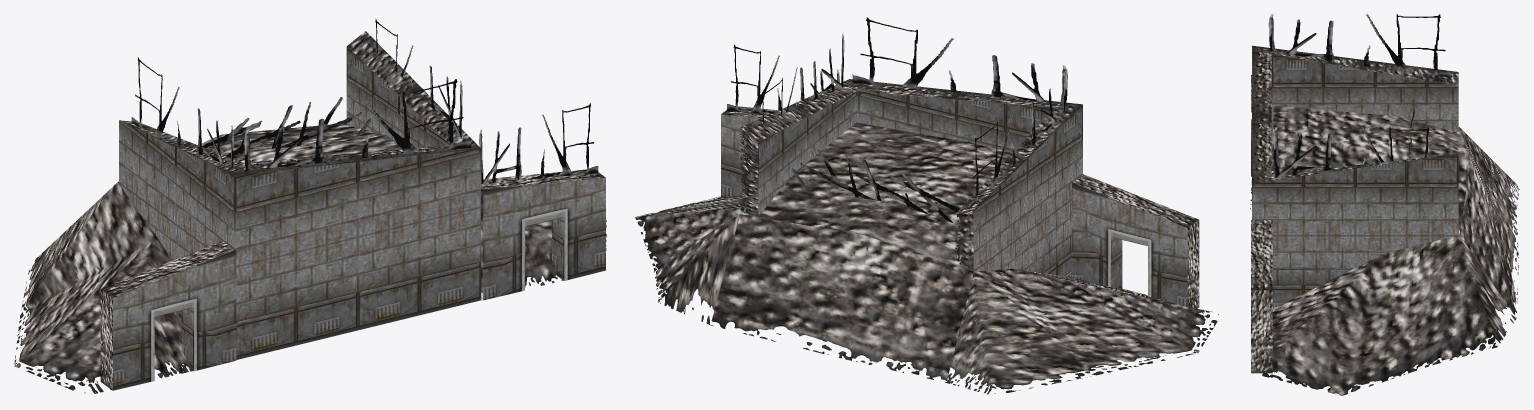
File: s_admin_core_dam.glb
3 renders of one model, left to right at view 1: azimuth 30°, elevation 25°; view 2: azimuth 150°, elevation 25°; view 3: azimuth 270°, elevation 25°, orthographic. The views are drawn at different scales.
Visible parts, largest first — view 1: Tube01; view 2: Tube01; view 3: Tube01.
Part boxes in pixels (x1,y1,x2,y2): Tube01: (14, 19, 606, 393); Tube01: (635, 17, 1218, 394); Tube01: (1250, 14, 1519, 395).
Size of the model in its own units: 42.1 by 15.23 by 18.5.
5 materials, 5 textured.
